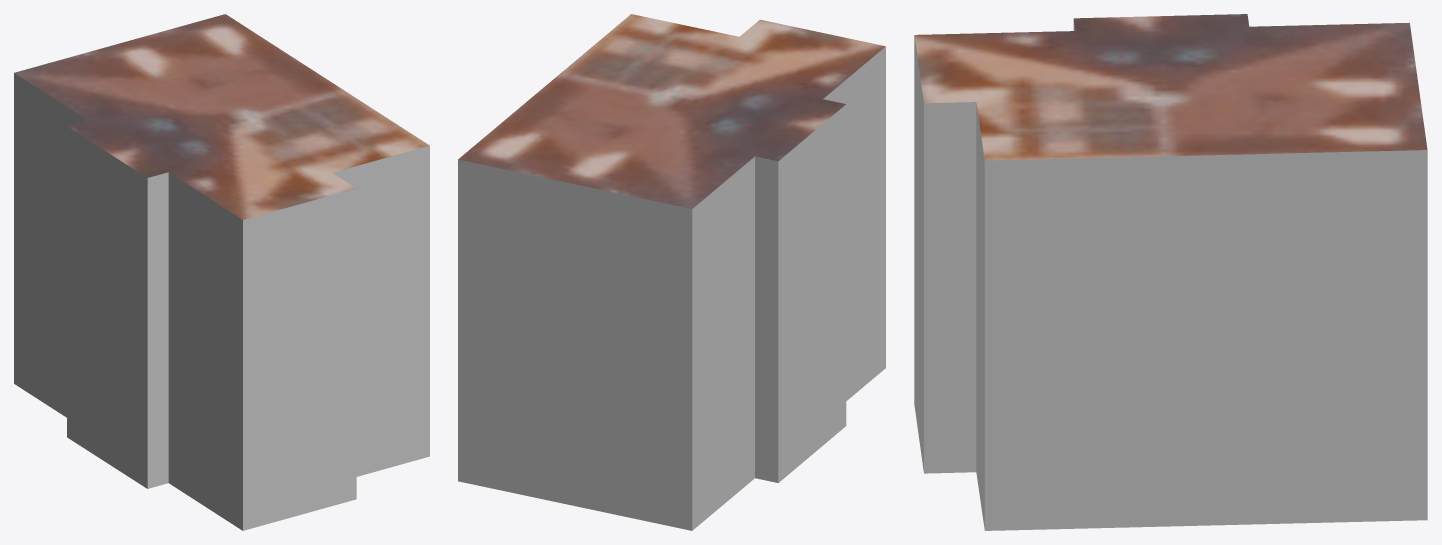
File: DEBW_0010007TxdV.gltf
3 views of the same model, side by side, from view 1: azimuth 30°, elevation 25°; view 2: azimuth 150°, elevation 25°; view 3: azimuth 270°, elevation 25° (orthographic). The views are drawn at different scales.
Visible parts, largest first — view 1: Z_UP; view 2: Z_UP; view 3: Z_UP.
Boxes of the visible parts, left/top/right/bottom form: Z_UP: left=14, top=14, right=429, bottom=530; Z_UP: left=458, top=14, right=885, bottom=530; Z_UP: left=914, top=14, right=1427, bottom=530.
Size of the model in its own units: 9.82 by 11.55 by 14.51.
Materials: 2 (1 with a texture image).
